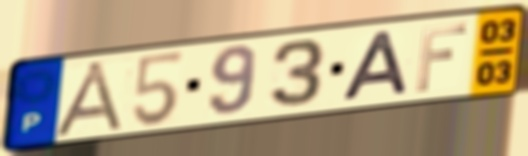3: (268, 38, 330, 110)
5: (130, 48, 187, 130)
9: (206, 42, 259, 120)
A: (50, 58, 130, 140), (336, 28, 413, 104)
F: (413, 21, 471, 95)
